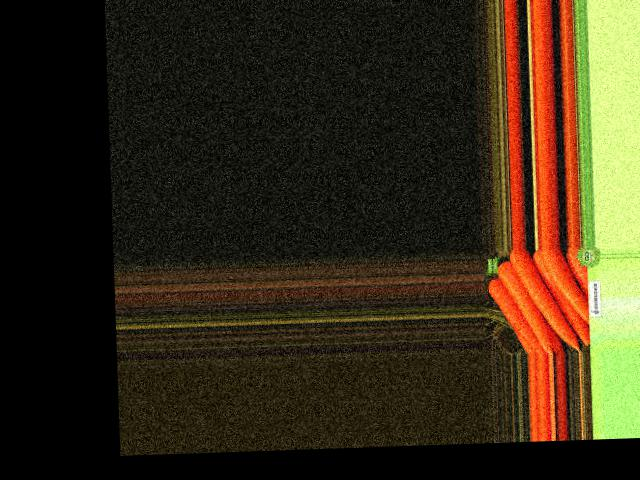carrot: (531, 248, 592, 349)
